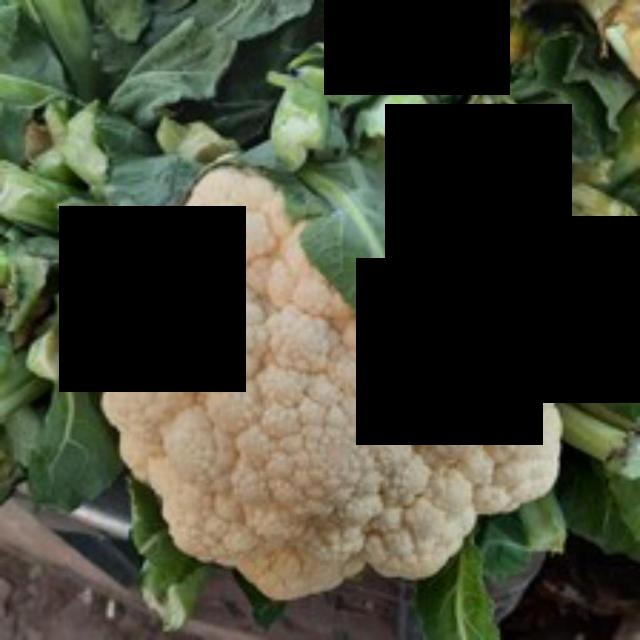cauliflower: (74, 110, 588, 610)
